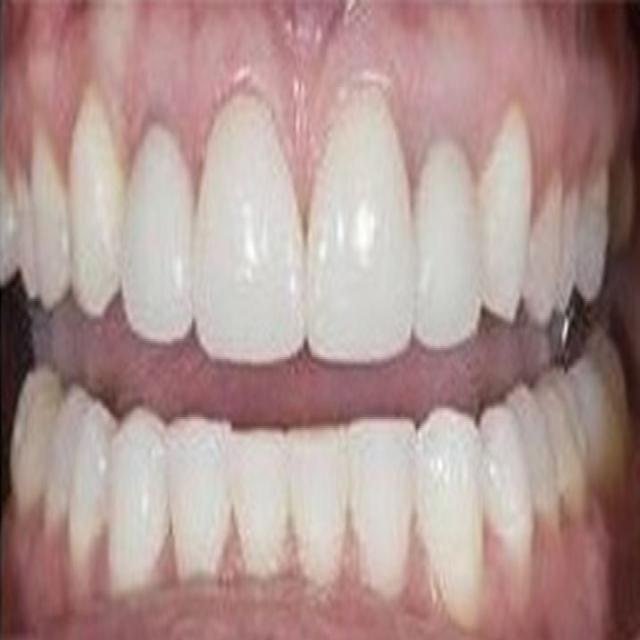tooth: (194, 114, 308, 363), (310, 121, 412, 366), (125, 129, 198, 355), (410, 149, 484, 359), (416, 406, 485, 626), (64, 100, 122, 317), (351, 415, 418, 595), (169, 411, 234, 593), (487, 80, 528, 350), (286, 430, 352, 594), (112, 419, 177, 578), (480, 417, 530, 611), (513, 381, 565, 558), (230, 424, 288, 578), (35, 125, 79, 312), (546, 383, 596, 531), (521, 168, 564, 340), (69, 408, 116, 558), (10, 359, 52, 504), (1, 147, 38, 301), (56, 382, 88, 544), (578, 159, 610, 292), (568, 359, 599, 495), (586, 330, 615, 433), (562, 161, 578, 314)
